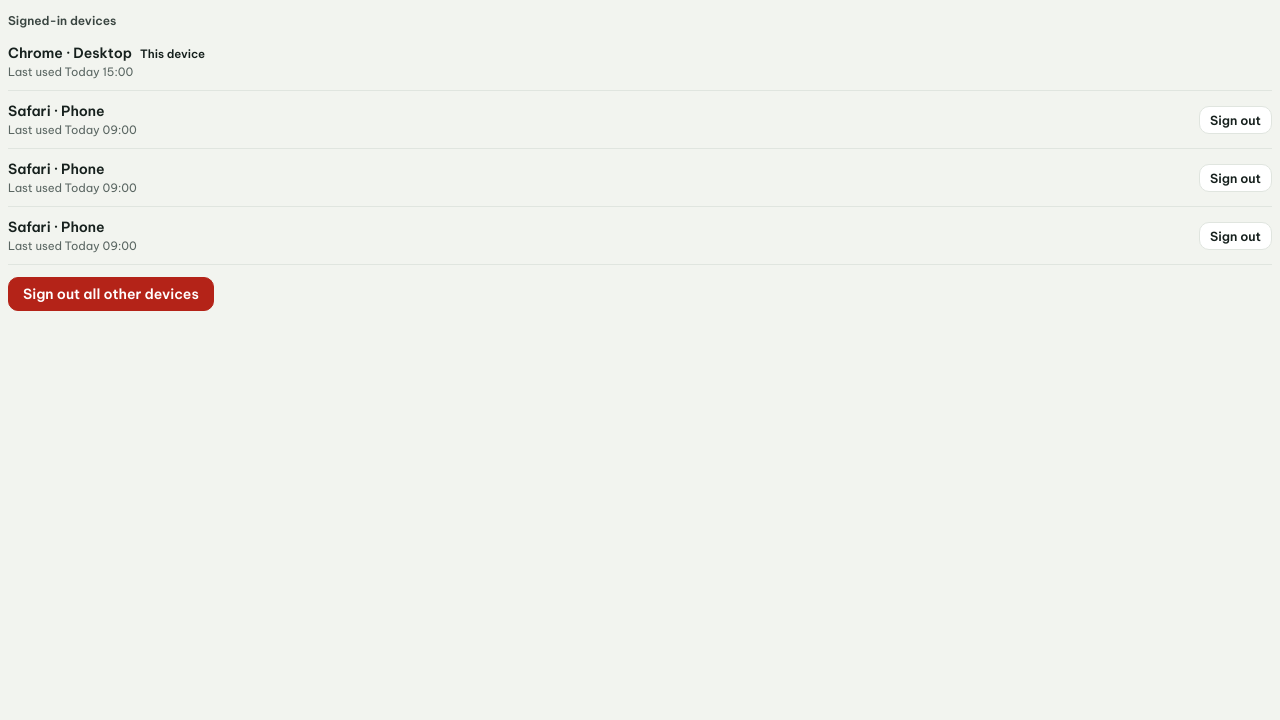
Test: Sign out all other devices (R18) › with 3 others the dialog names '3 other devices'
What coordinates should you click on to do the following:
click the button "Sign out all other devices"
I would click on:
 (111, 294)
Its box is 8,277 -> 214,311.
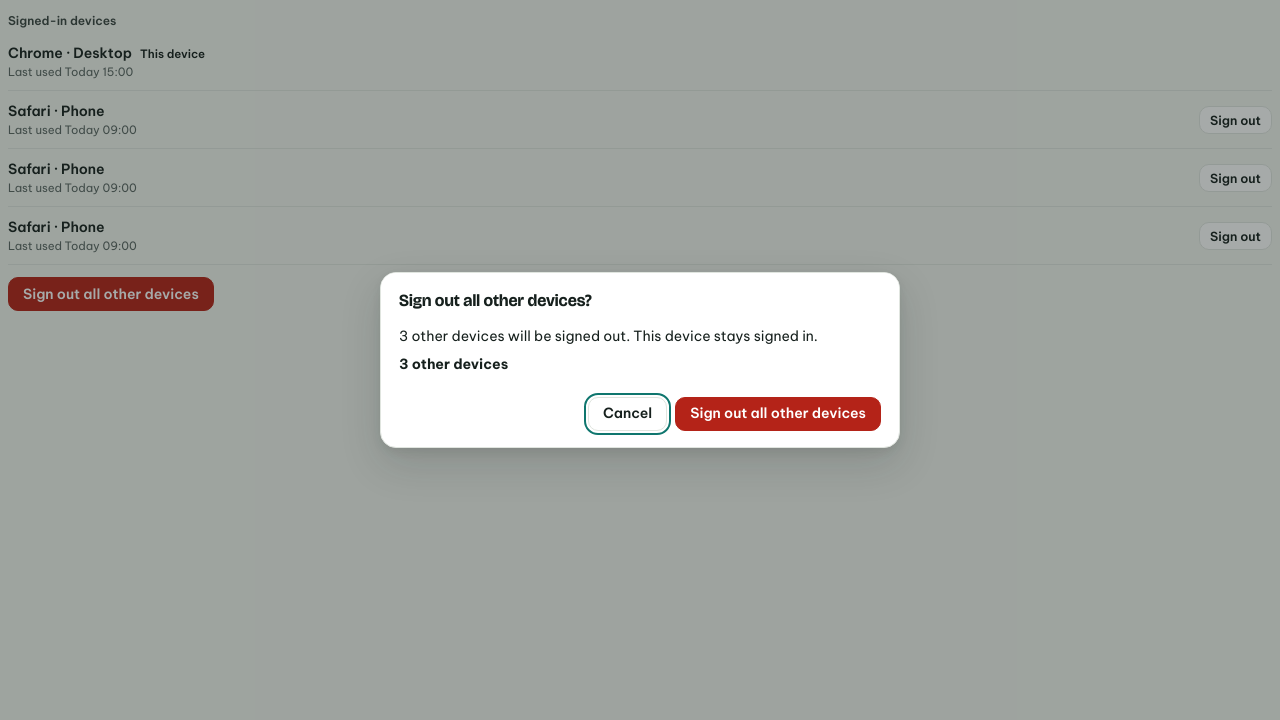
Now the dialog shows "3 other devices", box 399,355 -> 508,373
